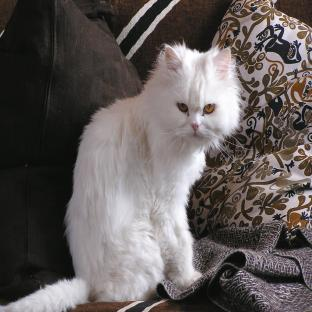Animal: (0, 44, 243, 312)
